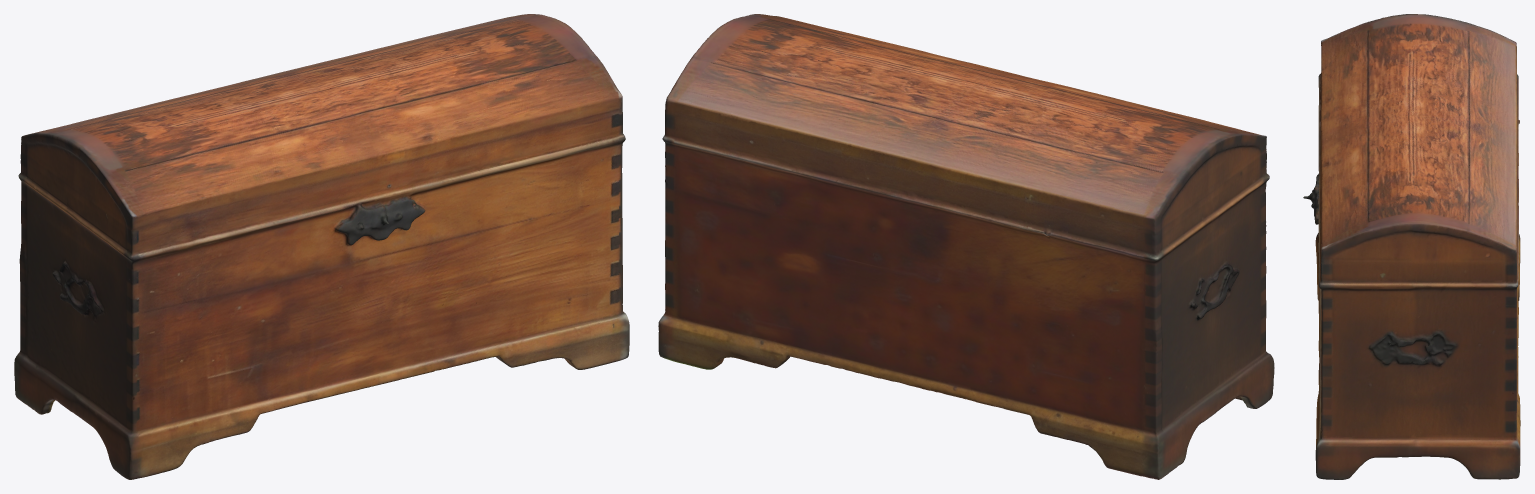
File: Meshy_AI_Crystal_Golem_0602120728_texture.fbx
3 views of the same model, side by side, from view 1: azimuth 30°, elevation 25°; view 2: azimuth 150°, elevation 25°; view 3: azimuth 270°, elevation 25° (orthographic). The views are drawn at different scales.
Parts seen in each view (by area): view 1: Mesh_0; view 2: Mesh_0; view 3: Mesh_0.
Boxes of the visible parts, x1=… form: Mesh_0: x1=14, y1=14, x2=629, y2=479; Mesh_0: x1=658, y1=14, x2=1274, y2=479; Mesh_0: x1=1303, y1=14, x2=1520, y2=479.
Bounding box in the file's own units: 200 × 112 × 85.88.
Materials: 1 (1 with a texture image).
